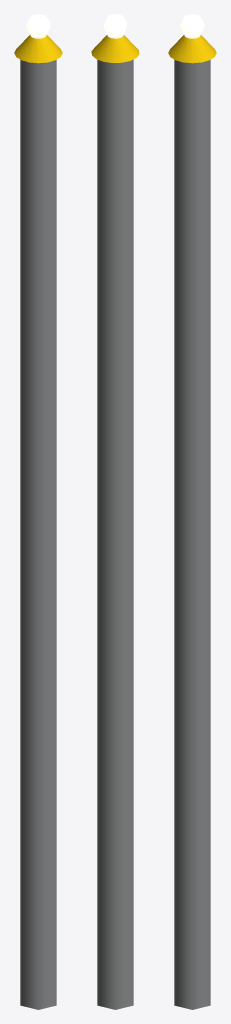
Rendered from RunwayLight01-WarmWhite_LOD2.gltf.
3 renders of one model, left to right at view 1: azimuth 90°, elevation 25°; view 2: azimuth 150°, elevation 25°; view 3: azimuth 270°, elevation 25°, orthographic.
Parts seen in each view (by area): view 1: Light; view 2: Light; view 3: Light.
Part boxes in pixels (box(x1,y1,x2,y2)): Light: box(14, 14, 62, 1009); Light: box(91, 14, 139, 1009); Light: box(168, 14, 216, 1009).
Bounding box in the file's own units: 0.4661 × 10.46 × 0.4661.
